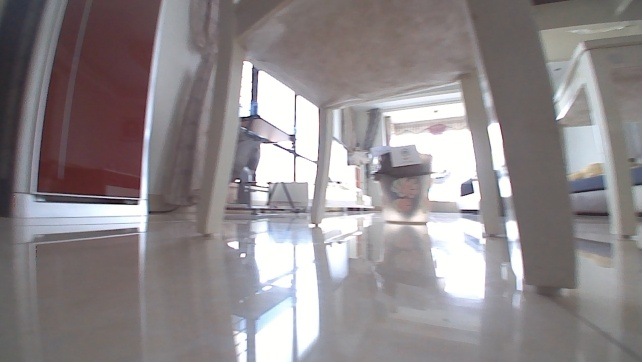bed1: (564, 163, 641, 215)
dining_table1: (172, 0, 641, 303)
